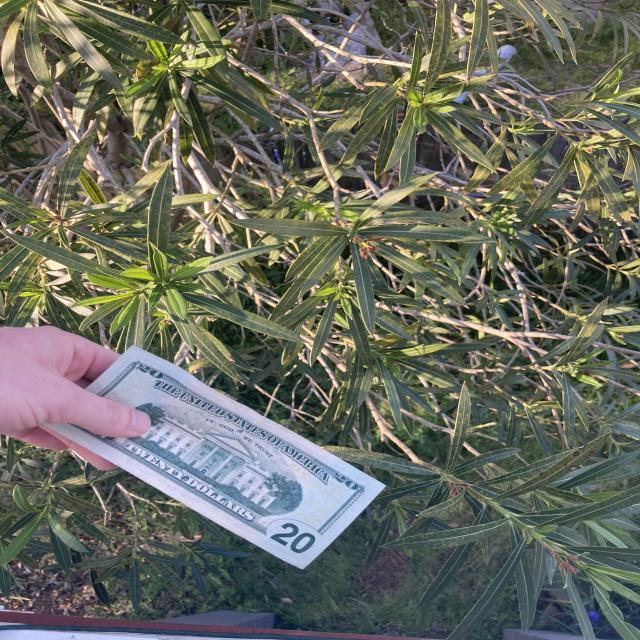twenty: (42, 343, 387, 570)
